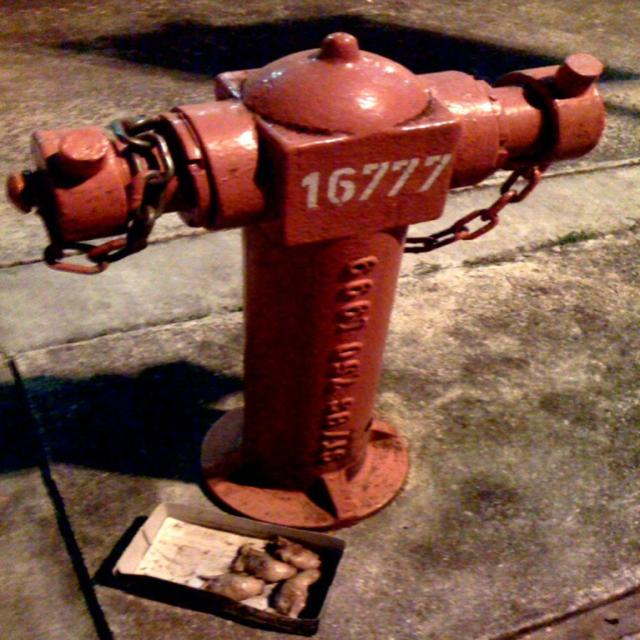fire_hydrant: (4, 32, 606, 526)
